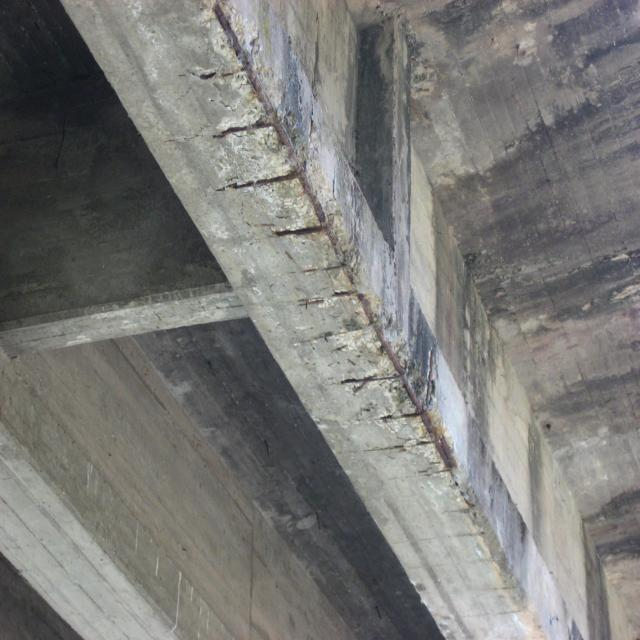Rebar: (188, 1, 478, 512)
